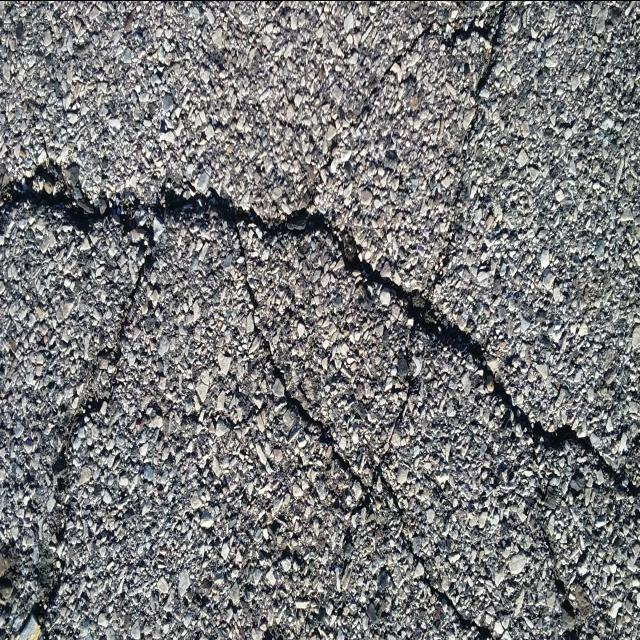Crack: (0, 154, 640, 640), (347, 0, 509, 213)
